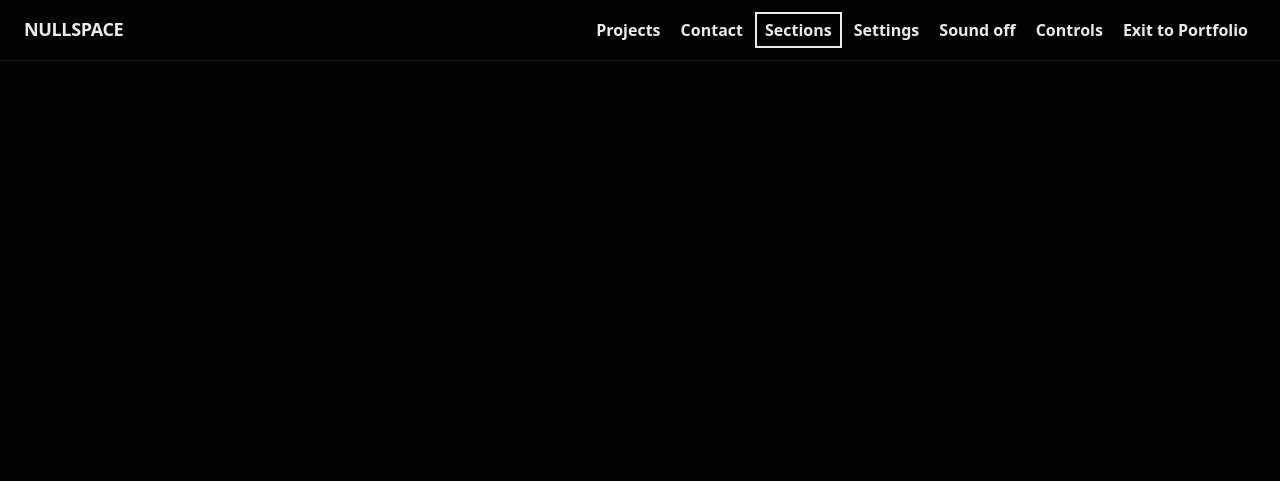
Test case: TopBar › in world mode shows read and reached marks independently
Step 1. Click the button "Sections" → click(798, 30), box [755,12,842,48]
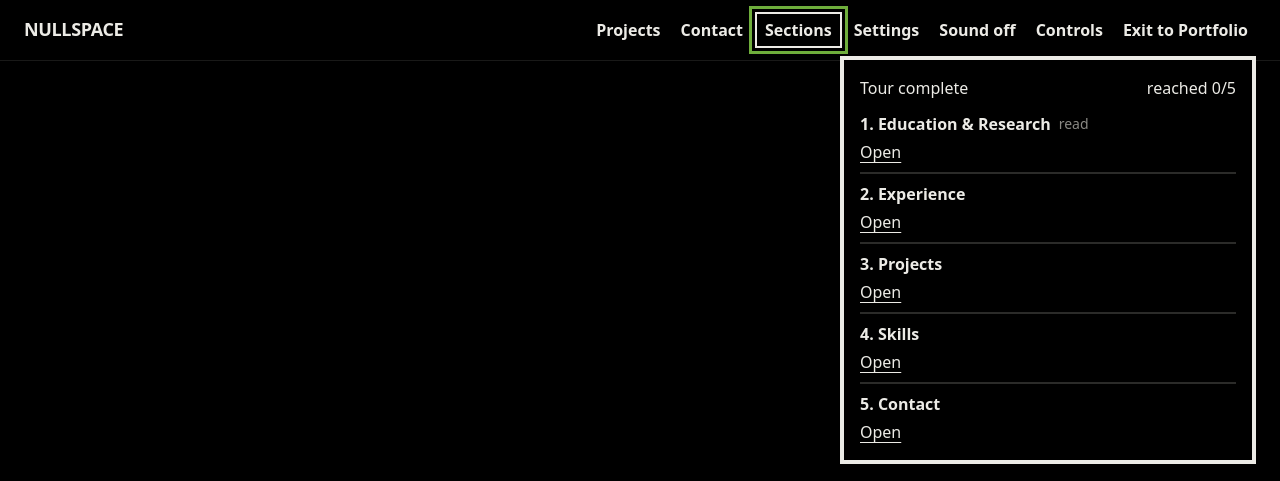
Check: the text "read" is shown, box [1059,114,1089,134]
Check: the text "reached 0/5" is shown, box [1147,76,1236,100]
